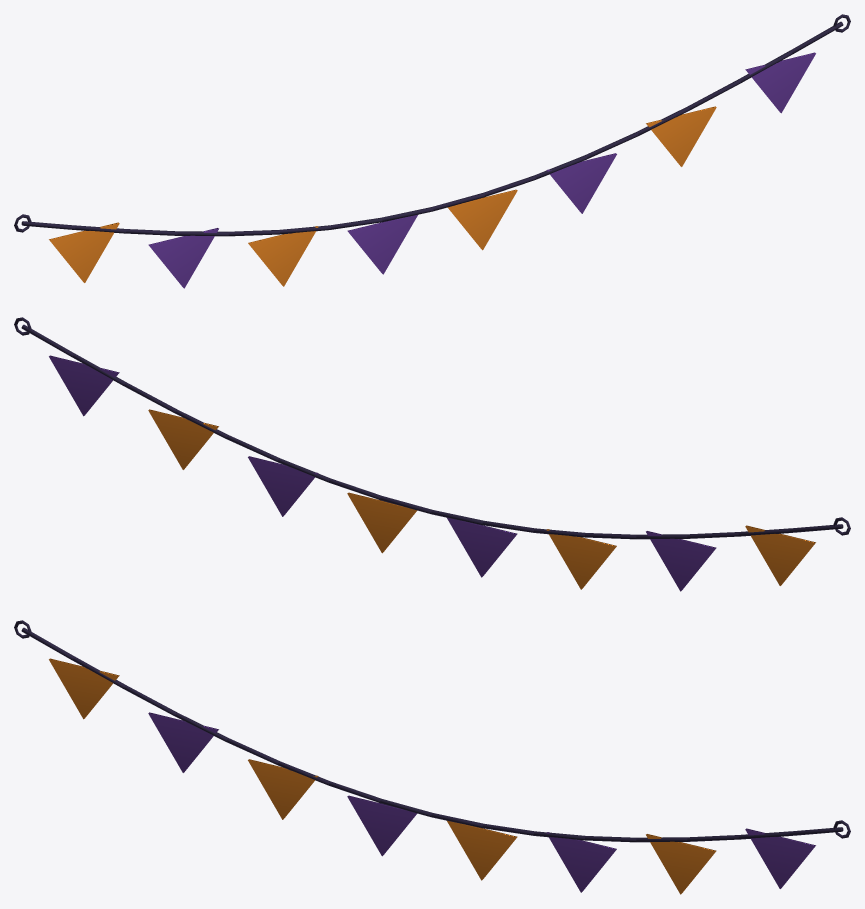
Rendered from bunting.glb.
The picture shows the model from 3 angles, top to bottom: view 1: azimuth 30°, elevation 25°; view 2: azimuth 150°, elevation 25°; view 3: azimuth 330°, elevation 25°; orthographic projection.
Size of the model in its own units: 4.09 by 0.6899 by 0.02.
